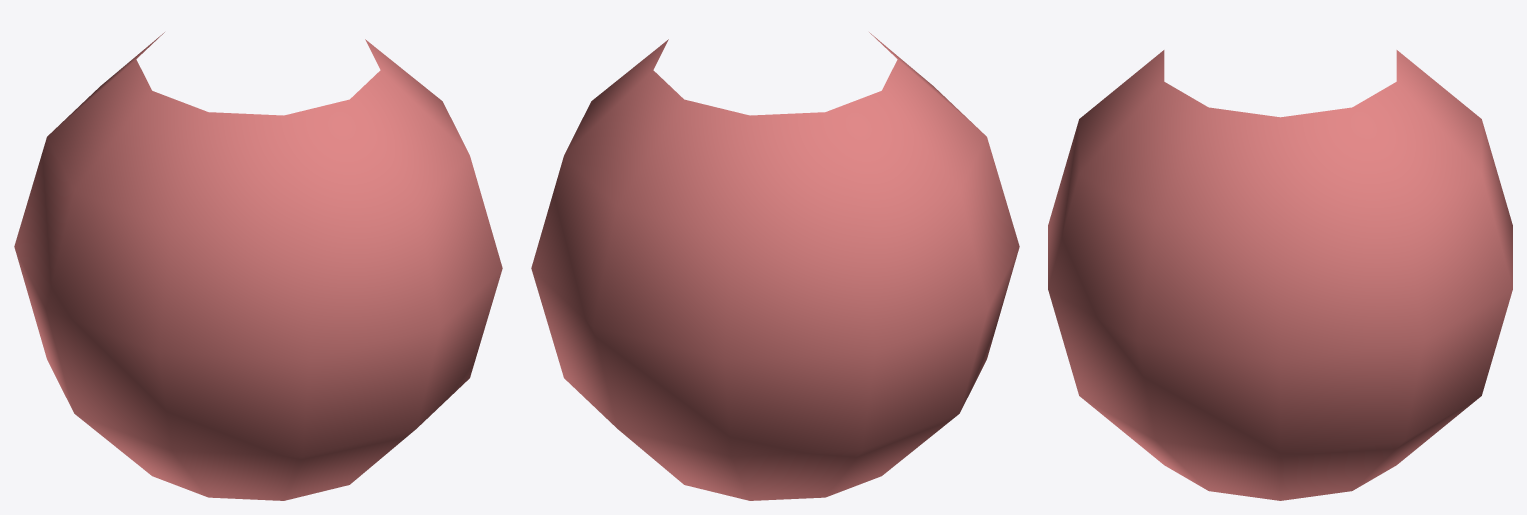
File: prim_sphere_red.glb
3 renders of one model, left to right at view 1: azimuth 30°, elevation 25°; view 2: azimuth 150°, elevation 25°; view 3: azimuth 270°, elevation 25°, orthographic.
Visible parts, largest first — view 1: prim_sphere_red; view 2: prim_sphere_red; view 3: prim_sphere_red.
Part boxes in pixels (x1=…): prim_sphere_red: x1=14, y1=32, x2=502, y2=500; prim_sphere_red: x1=531, y1=32, x2=1019, y2=500; prim_sphere_red: x1=1048, y1=50, x2=1512, y2=500.
Size of the model in its own units: 1 by 0.933 by 0.9511.
